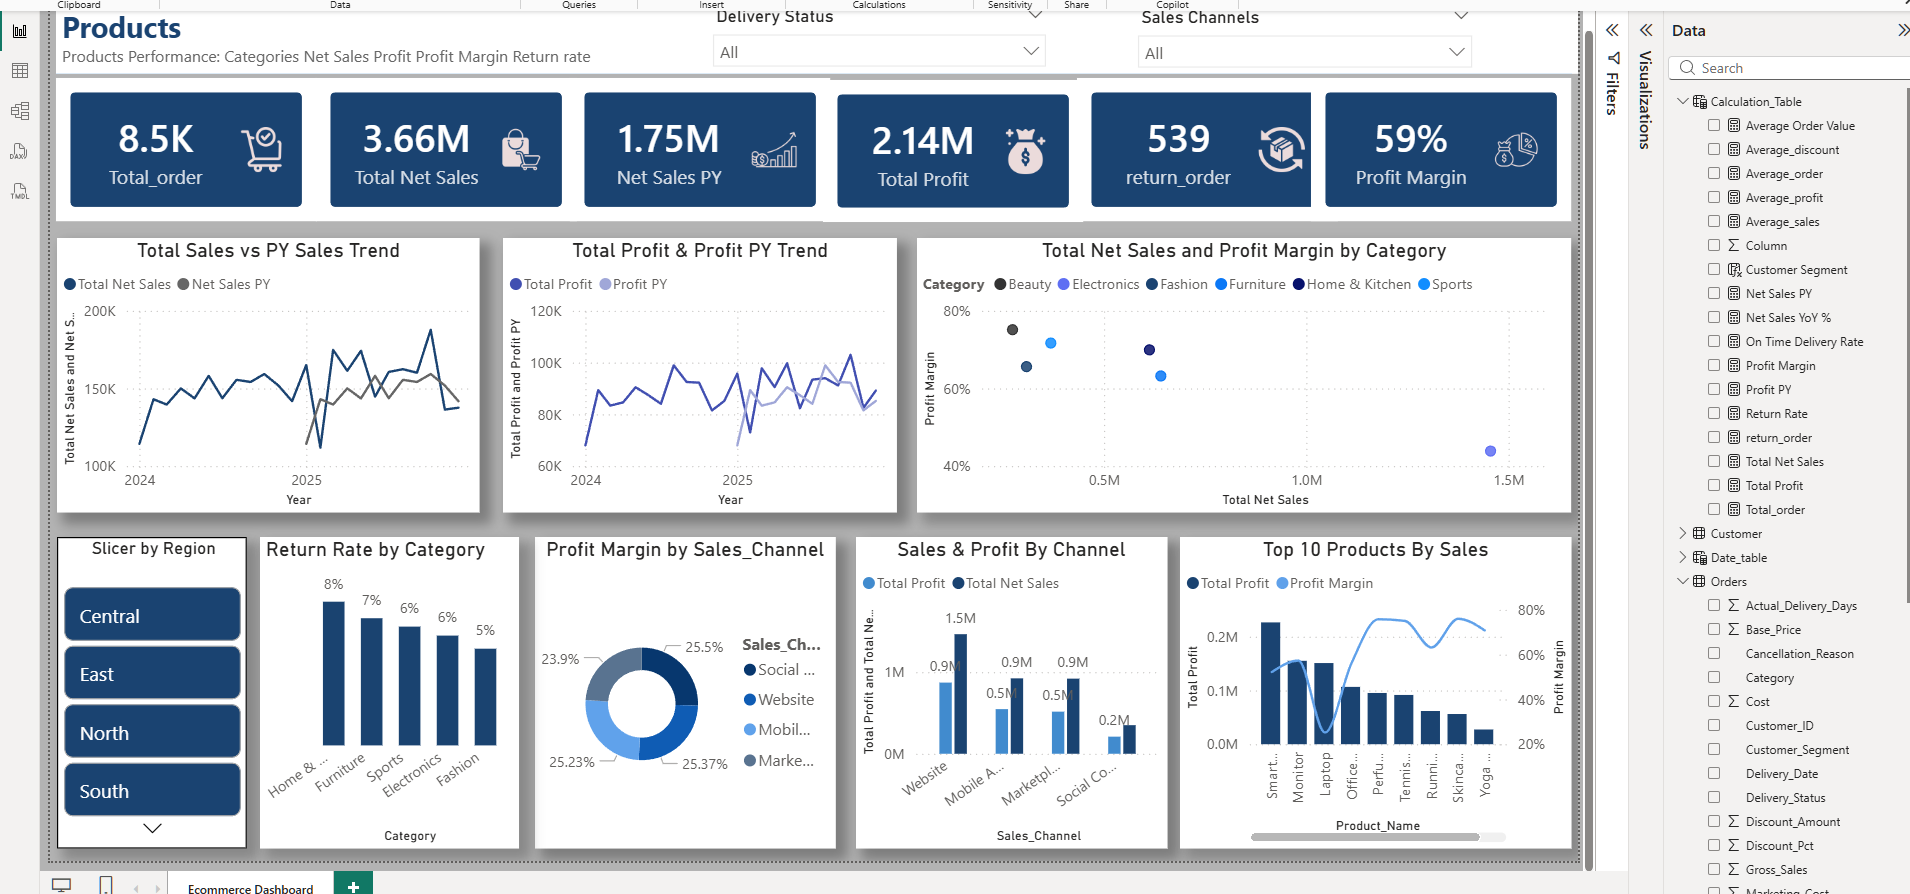

The dashboard page shown, as its layout file describes it:
{"tool":"powerbi","page":{"name":"Ecommerce Dashboard","canvas":[1280,720],"ordinal":0},"visuals":[{"type":"shape","box":[4.9,0,1270.3,61.3],"z":0},{"type":"cardVisual","fields":{"Data":["Calculation_Table.Total_order"]},"box":[0,59.6,228.6,130.3],"z":0,"group":"g1"},{"type":"textbox","box":[4.9,0,1275.1,61.3],"z":1000},{"type":"cardVisual","fields":{"Data":["Calculation_Table.Total Net Sales"]},"box":[217.6,59.9,228.6,130.3],"z":1000,"group":"g1"},{"type":"group","id":"g1","title":"Group 1","box":[0,59.6,1280,131.2],"z":2000},{"type":"cardVisual","fields":{"Data":["Calculation_Table.Total Profit"]},"box":[642.9,61.3,228.6,129.4],"z":2000,"group":"g1"},{"type":"cardVisual","fields":{"Data":["Calculation_Table.Net Sales PY"]},"box":[430.6,59.9,228.6,130.3],"z":3000,"group":"g1"},{"type":"lineChart","title":"Total Sales vs PY Sales Trend","fields":{"Y":["Calculation_Table.Total Net Sales","Calculation_Table.Net Sales PY"],"Category":["Date_table.Date.Variation.Date Hierarchy.Year","Date_table.Date.Variation.Date Hierarchy.Month"]},"box":[5.5,198.4,354.3,230.1],"z":3000},{"type":"cardVisual","fields":{"Data":["Calculation_Table.return_order"]},"box":[855.6,59.9,228.6,130.3],"z":4000,"group":"g1"},{"type":"lineChart","title":"Total Profit &  Profit PY Trend","fields":{"Category":["Date_table.Date.Variation.Date Hierarchy.Year","Date_table.Date.Variation.Date Hierarchy.Month"],"Y":["Calculation_Table.Total Profit","Calculation_Table.Profit PY"]},"box":[379.4,198.4,330.4,230.1],"z":4000},{"type":"cardVisual","fields":{"Data":["Calculation_Table.Profit Margin"]},"box":[1051.1,59.9,228.6,130.3],"z":5000,"group":"g1"},{"type":"scatterChart","fields":{"X":["Calculation_Table.Total Net Sales"],"Y":["Calculation_Table.Profit Margin"],"Series":["Orders.Category"]},"box":[726.1,198.4,548.4,230.1],"z":5000},{"type":"donutChart","fields":{"Category":["Orders.Sales_Channel"],"Y":["Calculation_Table.Profit Margin"]},"box":[406.7,449.2,251.9,260.6],"z":6000},{"type":"clusteredColumnChart","title":"Sales & Profit By Channel","fields":{"Category":["Orders.Sales_Channel"],"Y":["Calculation_Table.Total Profit","Calculation_Table.Total Net Sales"]},"box":[674.9,449.2,260.6,260.6],"z":7000},{"type":"lineClusteredColumnComboChart","title":"Top 10 Products By Sales","fields":{"Category":["Product.Product_Name"],"Y":["Calculation_Table.Total Profit"],"Y2":["Calculation_Table.Profit Margin"]},"box":[946.4,449.2,328.2,260.6],"z":8000},{"type":"advancedSlicerVisual","title":"Slicer by Region","fields":{"Values":["Customer.Region"]},"box":[5.5,449.2,159.2,260.6],"z":9000},{"type":"lineStackedColumnComboChart","fields":{"Category":["Orders.Category"],"Y":["Calculation_Table.Return Rate"]},"box":[175.5,449.2,217,260.6],"z":10000},{"type":"slicer","fields":{"Values":["Orders.Delivery_Status"]},"box":[545.2,0,299.3,60.2],"z":11000},{"type":"slicer","fields":{"Values":["Orders.Sales_Channel"]},"box":[901.1,1.1,300,59.8],"z":12000}]}

Visuals, with their boxes in screenshot pixels (x1, y1, x2, y2):
shape: rect(61, 10, 1563, 82)
cardVisual - Calculation_Table.Total_order: rect(55, 80, 325, 235)
textbox: rect(61, 10, 1569, 82)
cardVisual - Calculation_Table.Total Net Sales: rect(312, 81, 582, 235)
"Group 1" group: rect(55, 80, 1569, 236)
cardVisual - Calculation_Table.Total Profit: rect(815, 82, 1086, 236)
cardVisual - Calculation_Table.Net Sales PY: rect(564, 81, 834, 235)
"Total Sales vs PY Sales Trend" lineChart: rect(61, 245, 480, 517)
cardVisual - Calculation_Table.return_order: rect(1067, 81, 1337, 235)
"Total Profit &  Profit PY Trend" lineChart: rect(503, 245, 894, 517)
cardVisual - Calculation_Table.Profit Margin: rect(1298, 81, 1568, 235)
scatterChart - Calculation_Table.Total Net Sales x Calculation_Table.Profit Margin: rect(914, 245, 1562, 517)
donutChart - Orders.Sales_Channel x Calculation_Table.Profit Margin: rect(536, 541, 834, 850)
"Sales & Profit By Channel" clusteredColumnChart: rect(853, 541, 1161, 850)
"Top 10 Products By Sales" lineClusteredColumnComboChart: rect(1174, 541, 1562, 850)
"Slicer by Region" advancedSlicerVisual: rect(61, 541, 250, 850)
lineStackedColumnComboChart - Orders.Category x Calculation_Table.Return Rate: rect(262, 541, 519, 850)
slicer - Orders.Delivery_Status: rect(700, 10, 1054, 81)
slicer - Orders.Sales_Channel: rect(1121, 11, 1475, 82)
